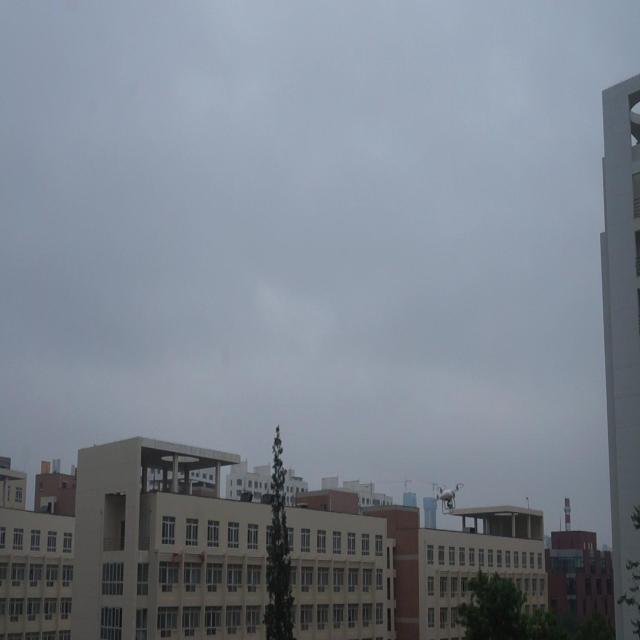drone: (434, 479, 462, 516)
